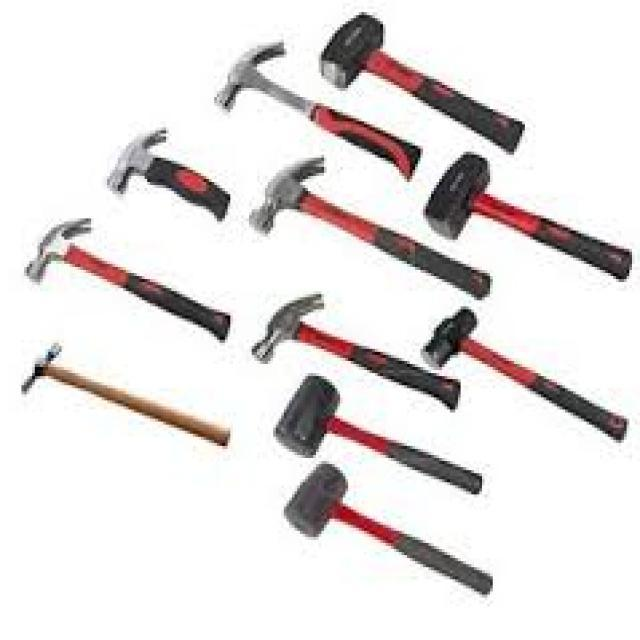hammer: (246, 153, 494, 303), (208, 37, 428, 185), (314, 8, 530, 158), (278, 459, 498, 604), (418, 304, 632, 449), (21, 213, 238, 351), (270, 366, 487, 504), (418, 148, 632, 286), (247, 290, 464, 417), (18, 338, 236, 457), (103, 120, 235, 226)
